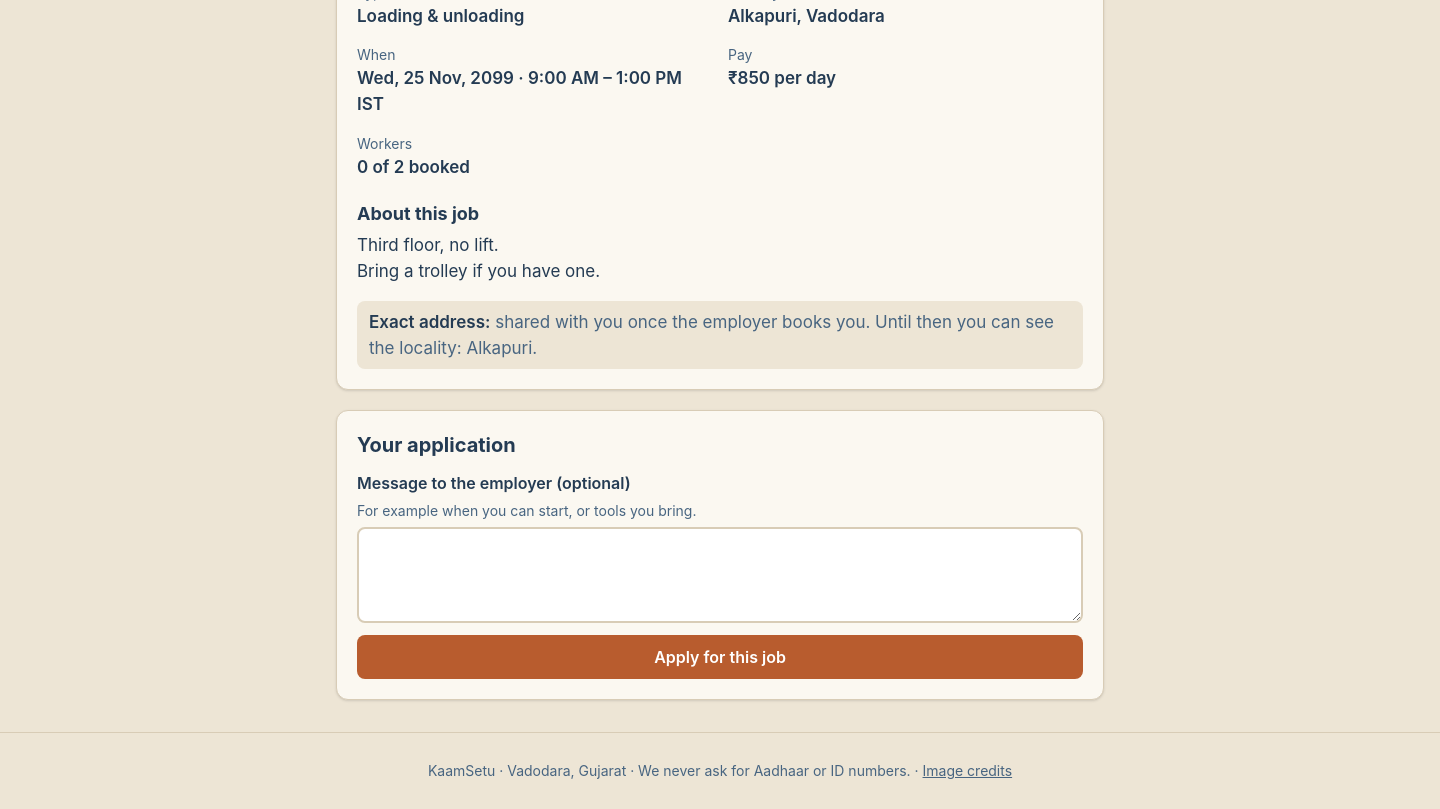
Test: job detail: apply and withdraw › shows the full job, then applies with an optional message
(page scrolled)
Check: the text "Third floor, no lift. Bring a trolley if you have one." is shown, box [357,235,600,281]
Check: the text "₹850 per day" is shown, box [728,68,836,88]
In the text box labelled "Message to the employer (optional)": point(720, 575) [357,527,1083,623], type "I can start at 8"
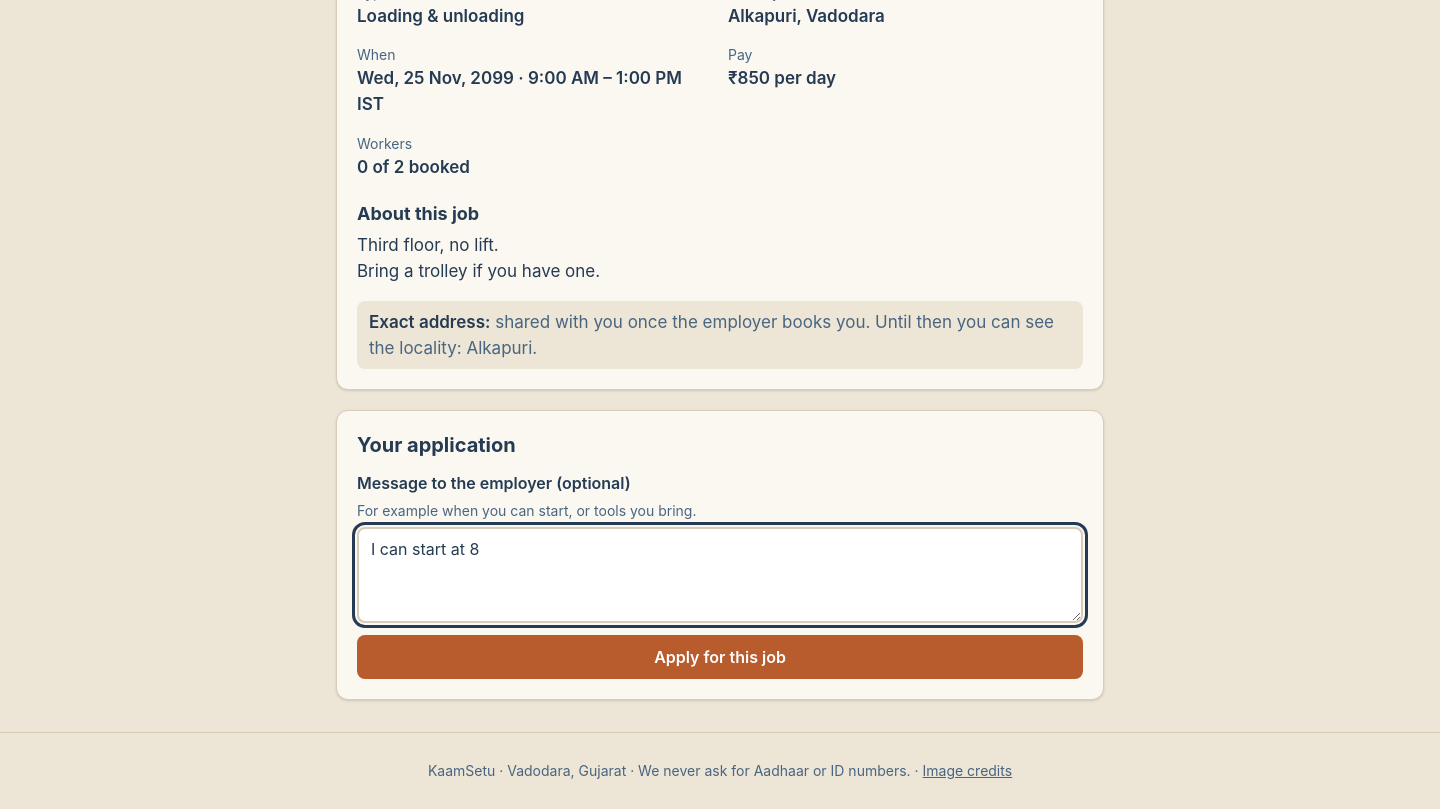
Click the button "Apply for this job": point(720, 657) [357,635,1083,679]
(page scrolled)
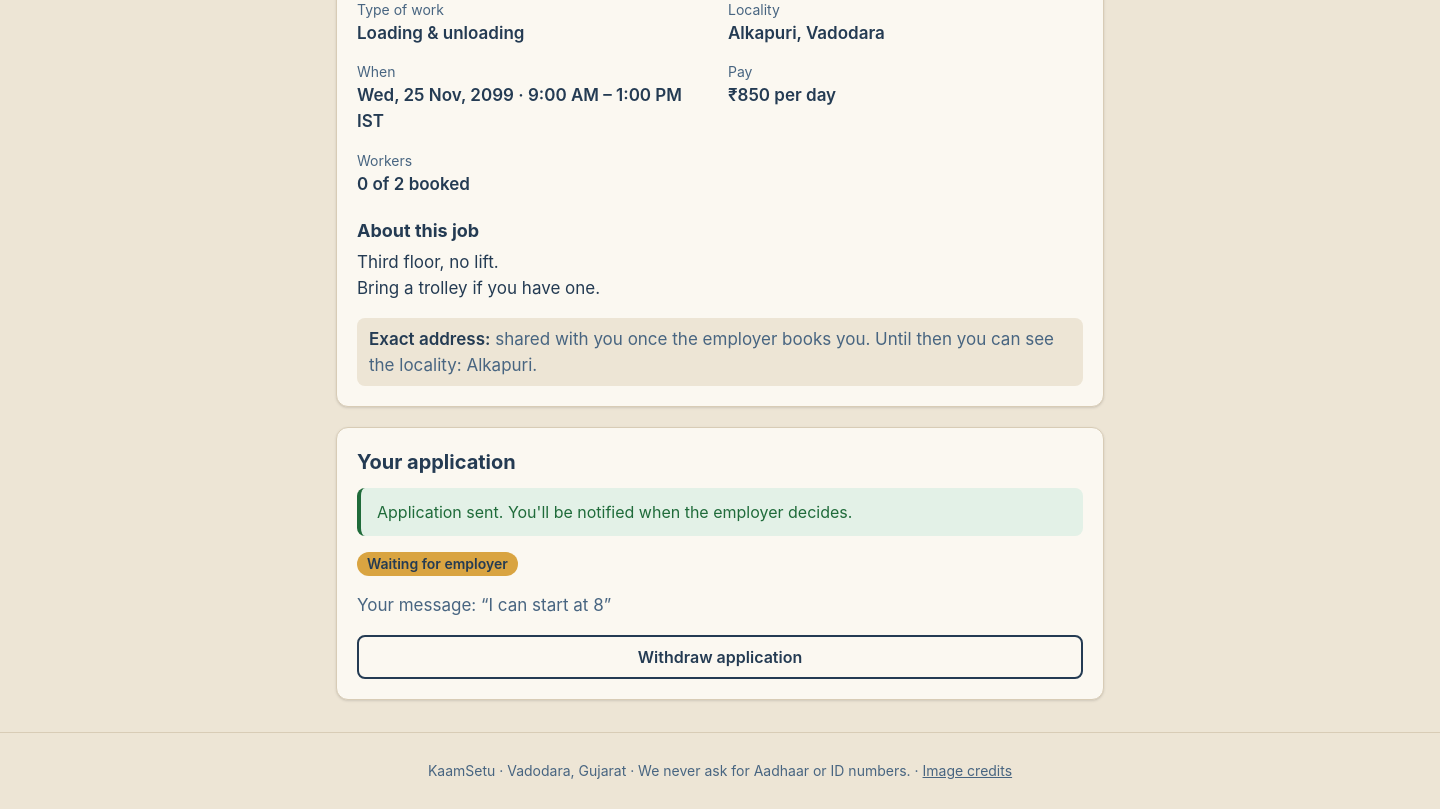
Check: the text "Application sent" is shown, box [377,502,852,522]
Check: the button "Withdraw application" is shown, box [357,635,1083,679]
Check: the text "Waiting for employer" is shown, box [357,552,518,576]
